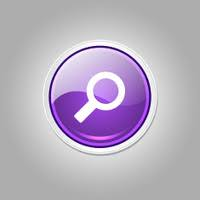searchIcon: (73, 71, 127, 124)
